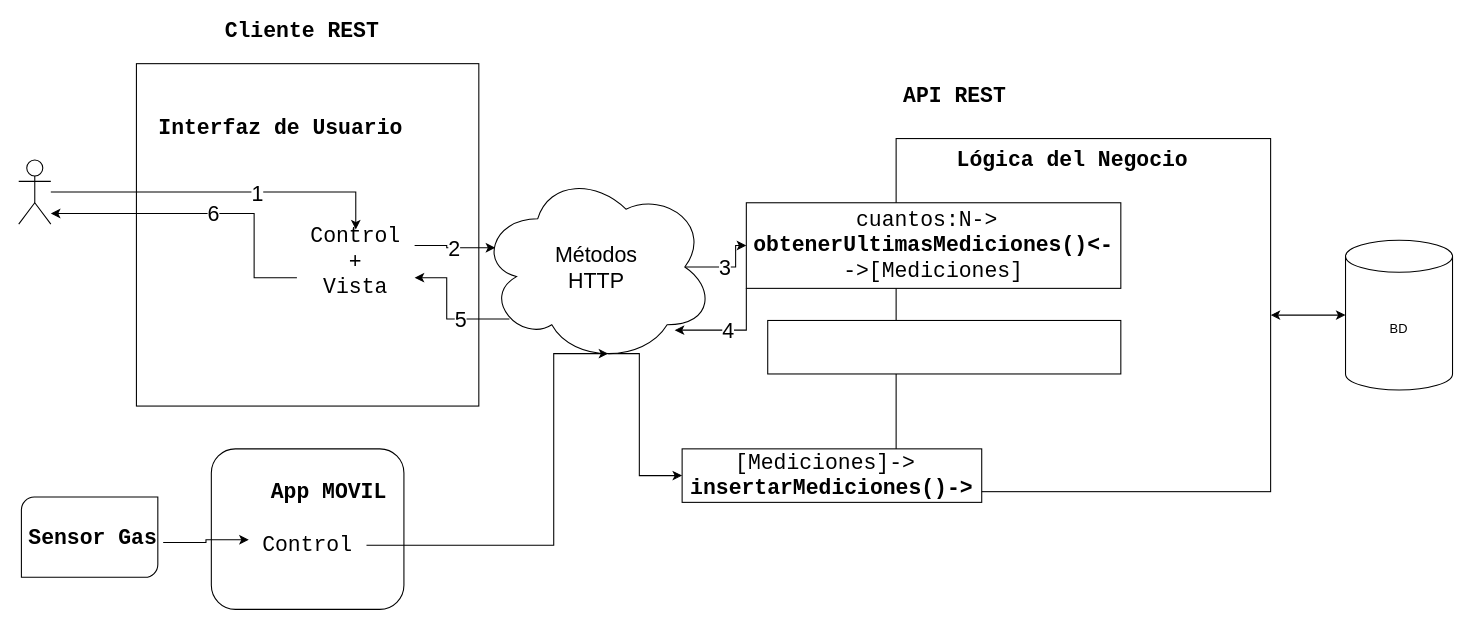
Image size: 1471x628. Some labels were removed from this diagram. The shapes that lost their labels are listed below. From the top down, each one's centre as x and y in pixels, then its label:
At (34,191): "Actor".
At (944,346): "obtenerTodasMediciones()<- ->[Mediciones]".
